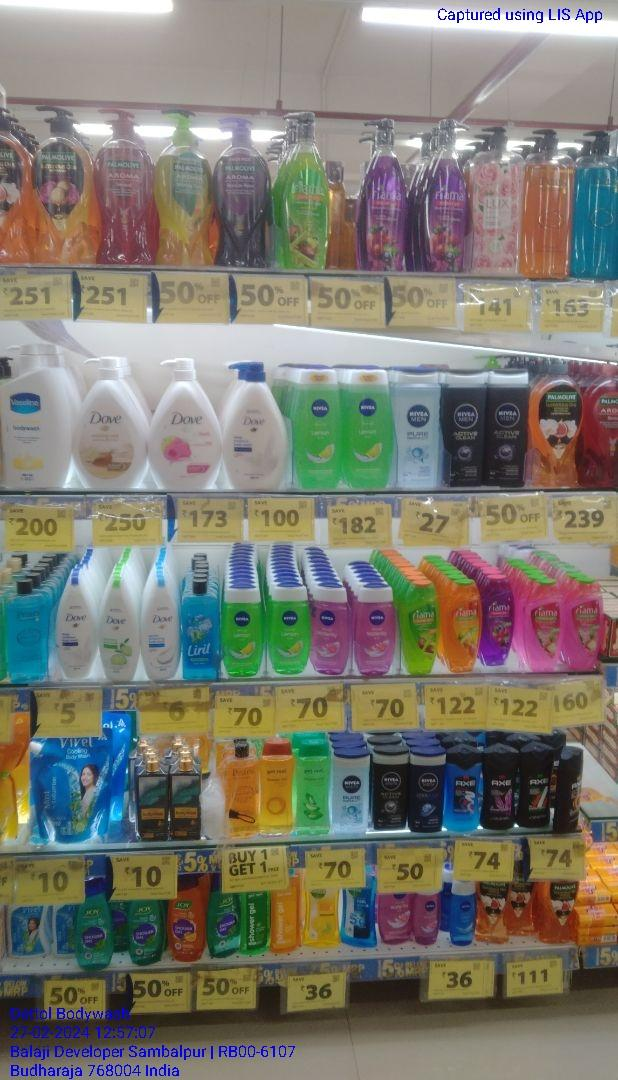Dettol_Bodywash_Cool: (341, 870, 374, 948)
Dettol_Bodywash_Refresh: (307, 886, 338, 948)
Dove_Deep_Moisture_Body_Wash_250ML: (56, 574, 95, 682)
Dove_Gentle_Exfoliating_Body_Wash_250ML: (143, 578, 177, 682)
Dove_Refreshing_Body_Wash_250ML: (101, 577, 136, 684)
Fiama_Shower_Gel_Lemongrass_and_Jojoba_250ML: (402, 579, 439, 675)
Fiama_Shower_Gel_Patchouli_and_Macadamia_250ML: (526, 577, 563, 673), (567, 575, 603, 673)
Fiama_Shower_Gel_Peach_and_Avocado_250ML: (445, 581, 482, 674)
Get_Real_Shower_Gel_Moisturising_Glycerin_300ML: (260, 738, 294, 836)
Joy_Shower_Gel_Mandarin_and_Lemongrass_250ML: (169, 876, 201, 962)
Joy_Shower_Gel_Mint_and_Eucalyptus_250ML: (76, 881, 109, 970), (208, 875, 241, 960), (130, 900, 162, 965)
Liril_Cooling_Mint_Body_Wash_250ML: (179, 581, 219, 682)
Nivea_Shower_Gel_Lemon_and_Oil_250ML: (346, 365, 394, 492), (296, 363, 341, 491), (222, 582, 263, 679), (269, 583, 308, 675)
Nivea_Shower_Gel_Waterlily_and_Oil_250ML: (356, 583, 395, 676), (312, 582, 348, 675), (379, 892, 412, 946), (415, 891, 440, 945)
Palmolive_Luminous_Oils_With_White_Orchid_Shower_Gel_250ML: (543, 879, 578, 944), (476, 879, 508, 945), (508, 862, 536, 937)
Pears_Pure_Glycerin_and_Mint_Extracts_Body_Wash_250ML: (9, 580, 47, 685)
